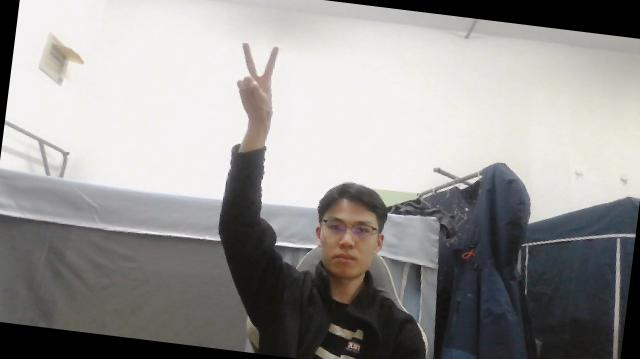two: (232, 38, 283, 123)
